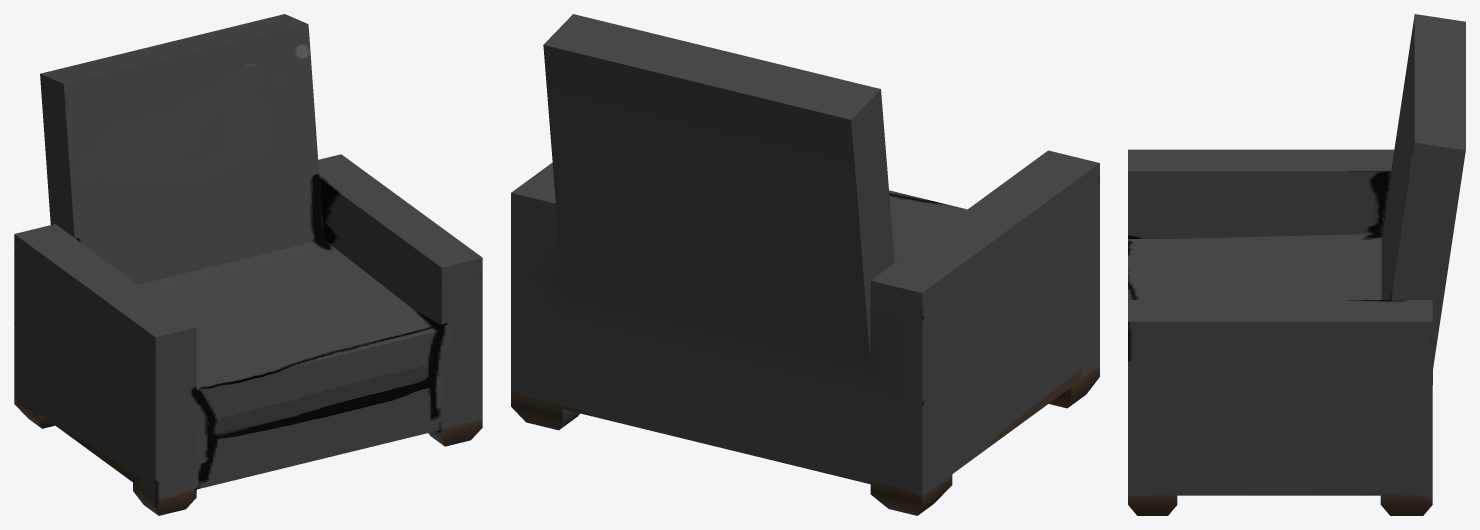
Rendered from comfy chair.fbx.
3 renders of one model, left to right at view 1: azimuth 30°, elevation 25°; view 2: azimuth 150°, elevation 25°; view 3: azimuth 270°, elevation 25°, orthographic. The views are drawn at different scales.
Visible parts, largest first — view 1: pCube1; view 2: pCube1; view 3: pCube1.
Boxes of the visible parts, x1=… form: pCube1: x1=14, y1=14, x2=482, y2=515; pCube1: x1=511, y1=14, x2=1099, y2=515; pCube1: x1=1128, y1=14, x2=1465, y2=515.
Size of the model in its own units: 174 by 168 by 145.
Materials: 1 (1 with a texture image).
